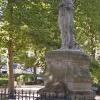Statue: (39, 0, 93, 57)
